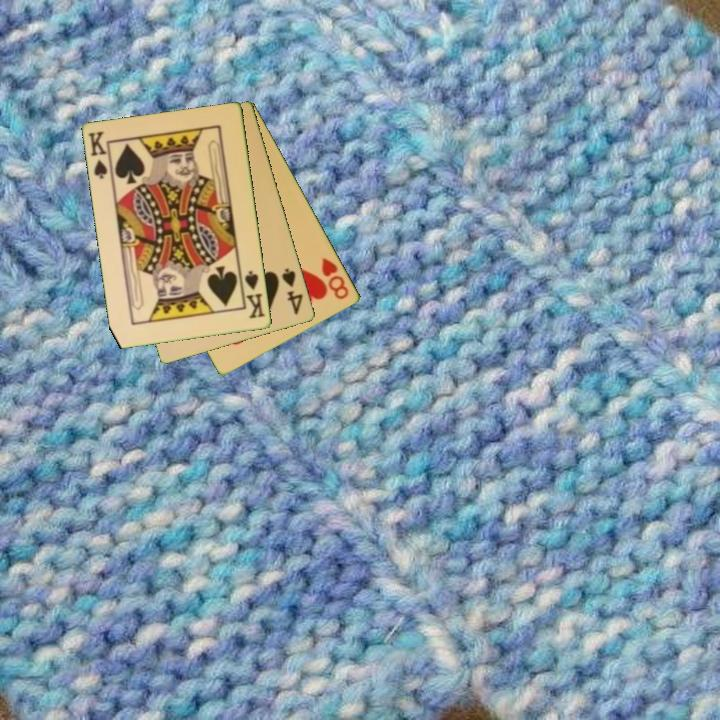4s: (279, 265, 306, 318)
8h: (318, 254, 352, 302)
Ks: (238, 267, 268, 322), (85, 128, 115, 182)
